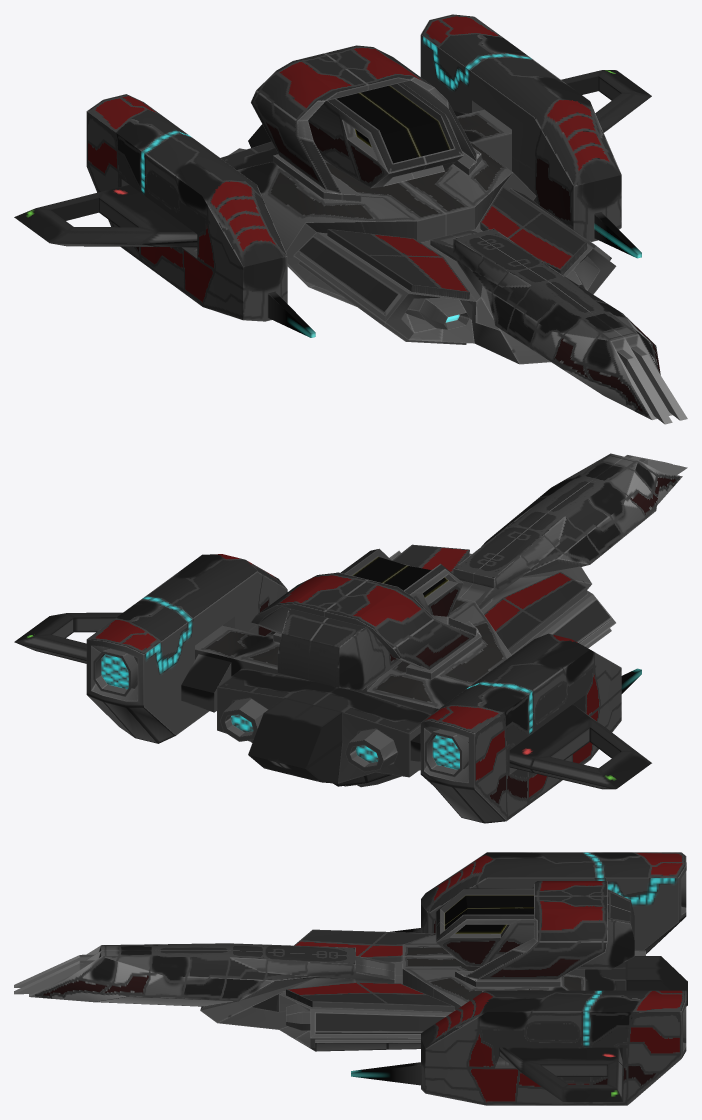
Rendered from thunda.fbx.
The picture shows the model from 3 angles, top to bottom: view 1: azimuth 30°, elevation 25°; view 2: azimuth 150°, elevation 25°; view 3: azimuth 270°, elevation 25°; orthographic projection. The views are drawn at different scales.
Visible parts, largest first — view 1: Cube; view 2: Cube; view 3: Cube.
Part boxes in pixels (x1,y1,x2,y2): Cube: [14, 14, 687, 424]; Cube: [14, 453, 687, 823]; Cube: [14, 852, 687, 1105].
Size of the model in its own units: 3208 by 969 by 3685.
1 material, 1 textured.
